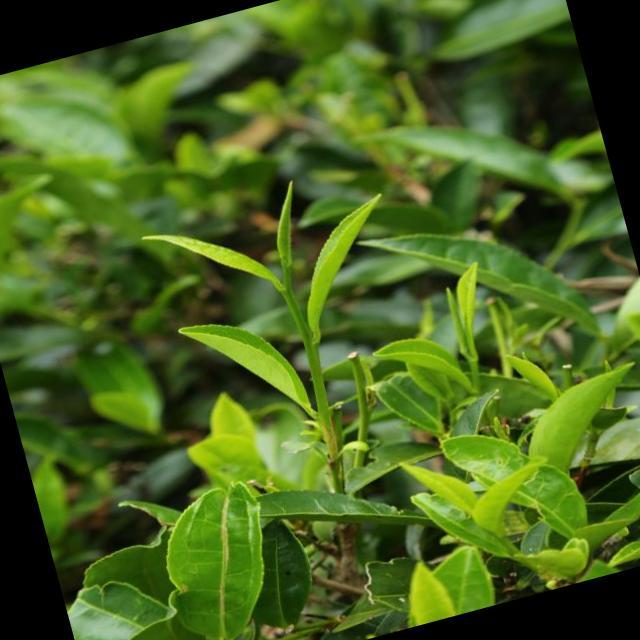Stem: (306, 339, 316, 353), (470, 361, 477, 370)
